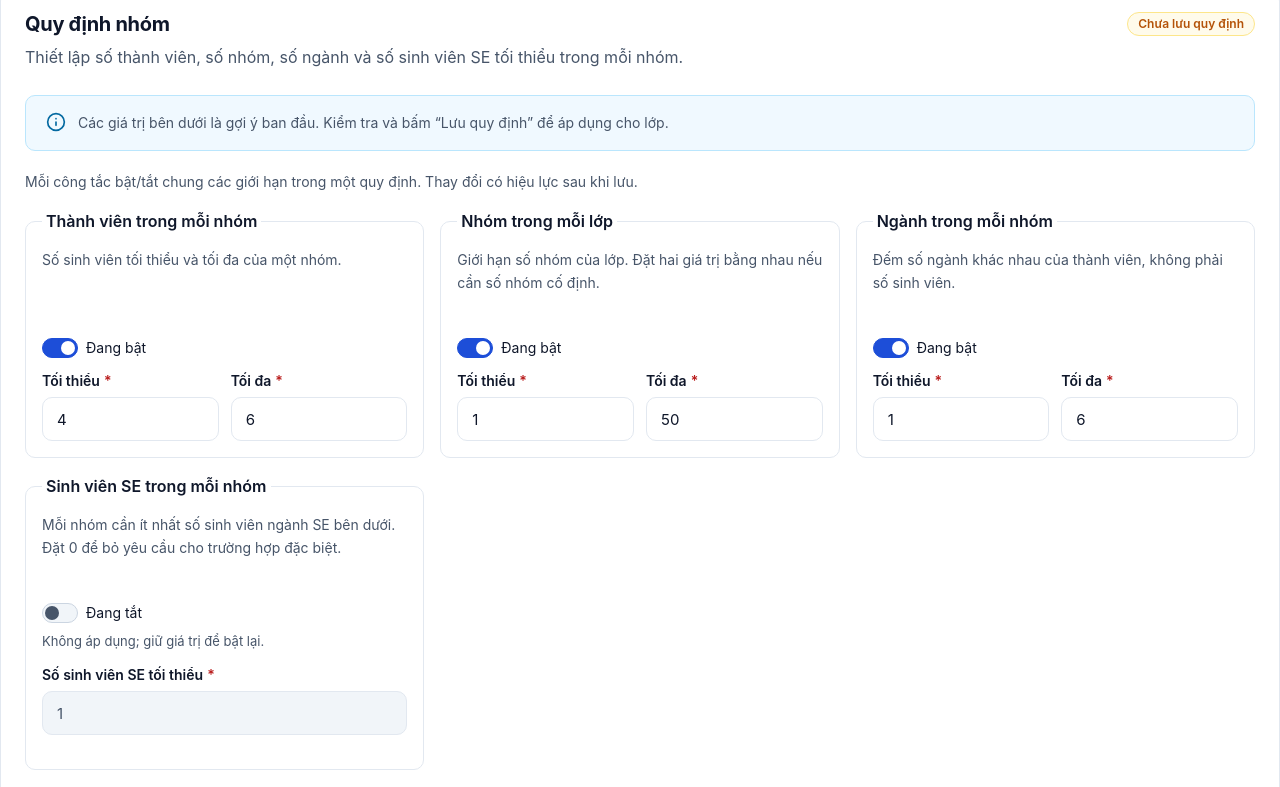
Scenario: Class grouping rules workflow › keeps the default SE rule off with its suggested value and allows the lecturer to enable it
Check: the number field with id "rule-MIN_SE_MEMBERS_PER_GROUP" holds "1", box x1=42 y1=691 x2=407 y2=735
Click the switch labelled "Đang tắt": coordinates (60, 613) x1=42 y1=603 x2=78 y2=623
(page scrolled)
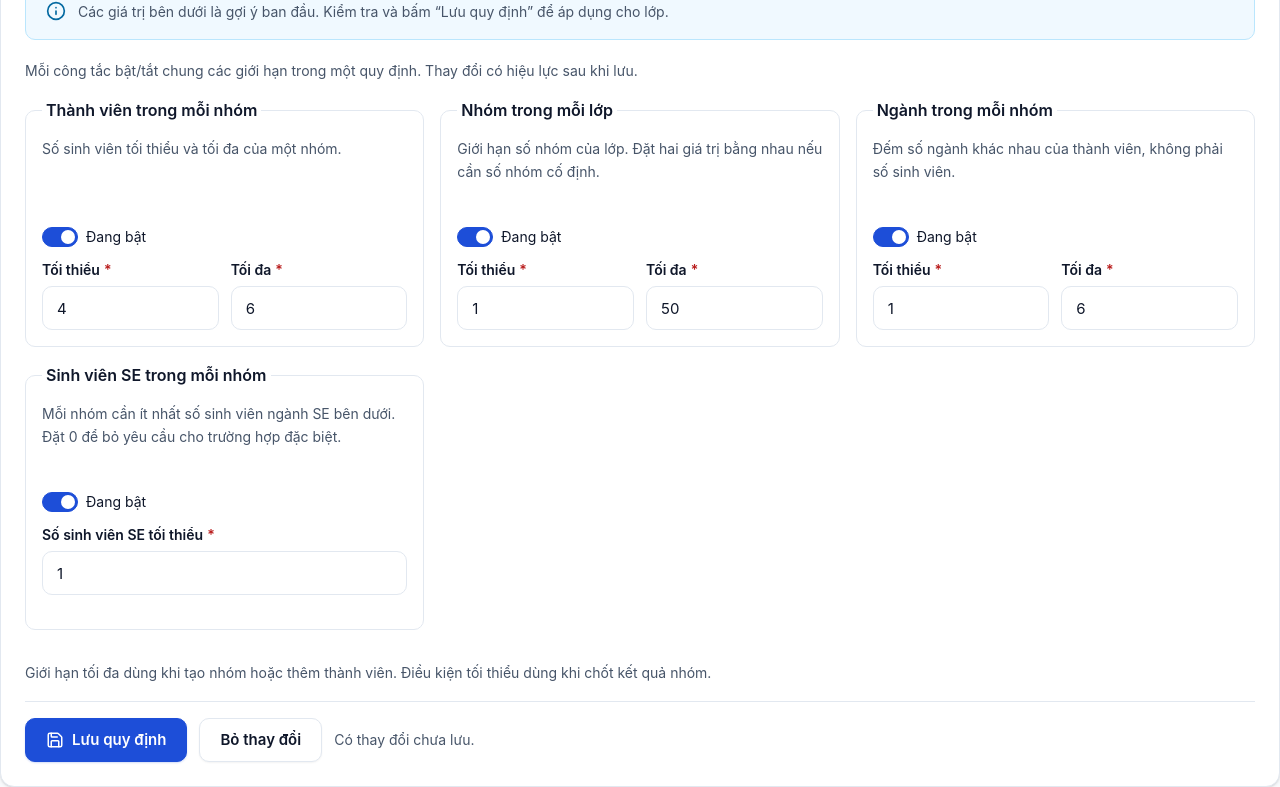
Check: the number field with id "rule-MIN_SE_MEMBERS_PER_GROUP" does not have attribute readonly, box x1=42 y1=551 x2=407 y2=595
Click the button "Lưu quy định": coordinates (106, 740) x1=25 y1=718 x2=188 y2=762
(page scrolled)
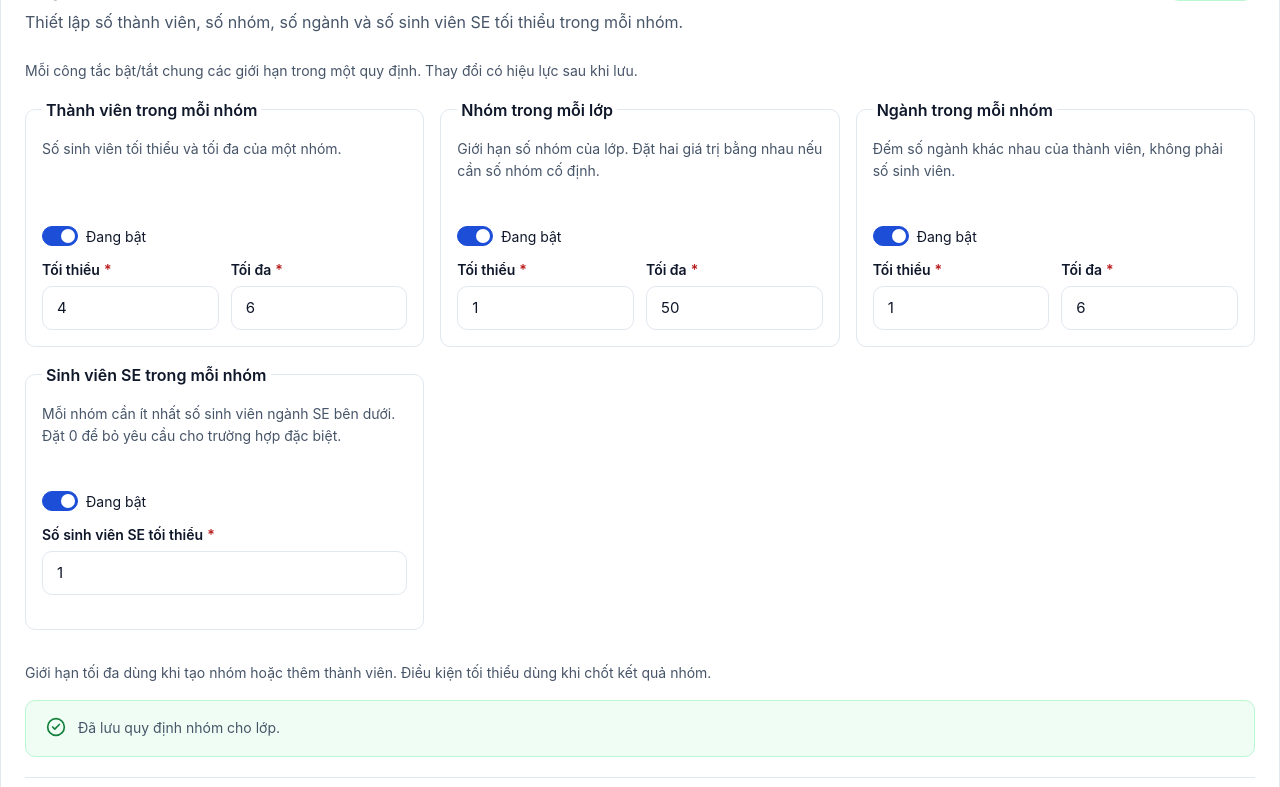
Check: the text "Đã lưu quy định nhóm cho lớp." is shown, box x1=78 y1=717 x2=280 y2=740
